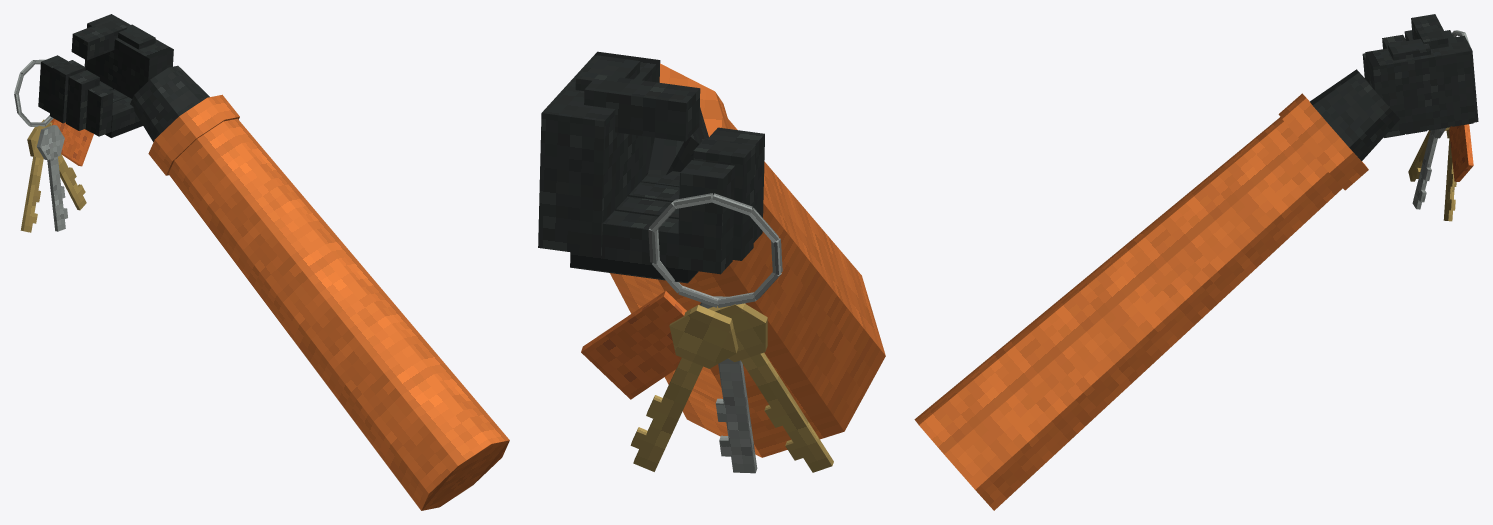
File: vm_keys.glb
3 renders of one model, left to right at view 1: azimuth 30°, elevation 25°; view 2: azimuth 150°, elevation 25°; view 3: azimuth 270°, elevation 25°, orthographic. The views are drawn at different scales.
Visible parts, largest first — view 1: Arms, Item; view 2: Arms, Item; view 3: Arms, Item.
Boxes of the visible parts, x1,y1,x2,y2 form: Arms: [38, 14, 509, 510]; Item: [14, 59, 93, 232]; Arms: [538, 51, 885, 457]; Item: [581, 193, 833, 473]; Arms: [914, 14, 1478, 510]; Item: [1408, 30, 1473, 221].
Size of the model in its own units: 0.3174 by 0.3916 by 0.4971.
Materials: 5 (5 with a texture image).
